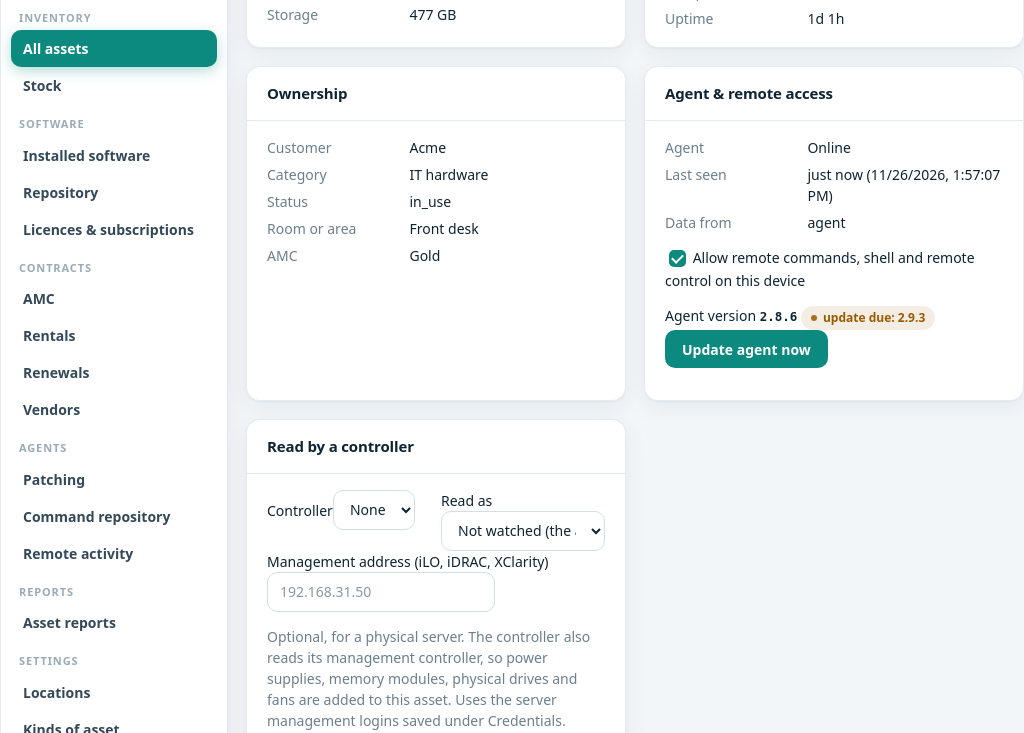
an agent with an update due can be updated from the asset page, with a live log
(page scrolled)
expect the text "update due: 2.9.3" is shown: met, box [801,306,935,330]
Click the button "Update agent now" at [746, 349], box [665,330,828,368]
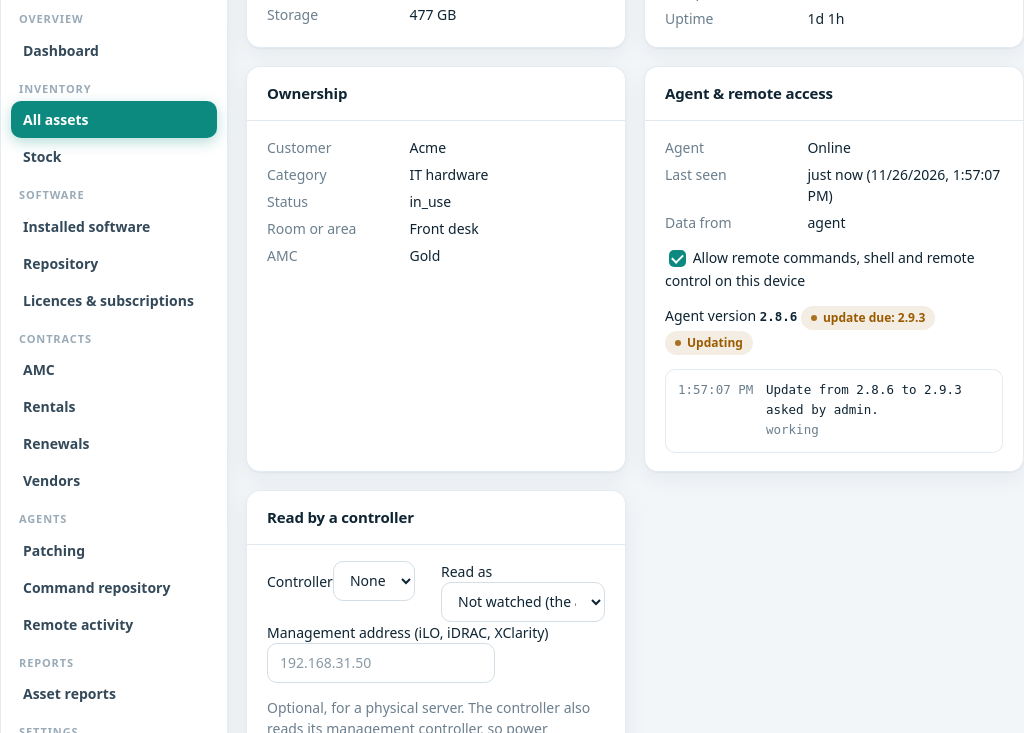
expect the text "Update from 2.8.6 to 2.9.3 asked by admin." is shown: met, box [766,380,990,420]
expect the text "Updating" is shown: met, box [665,331,753,355]
